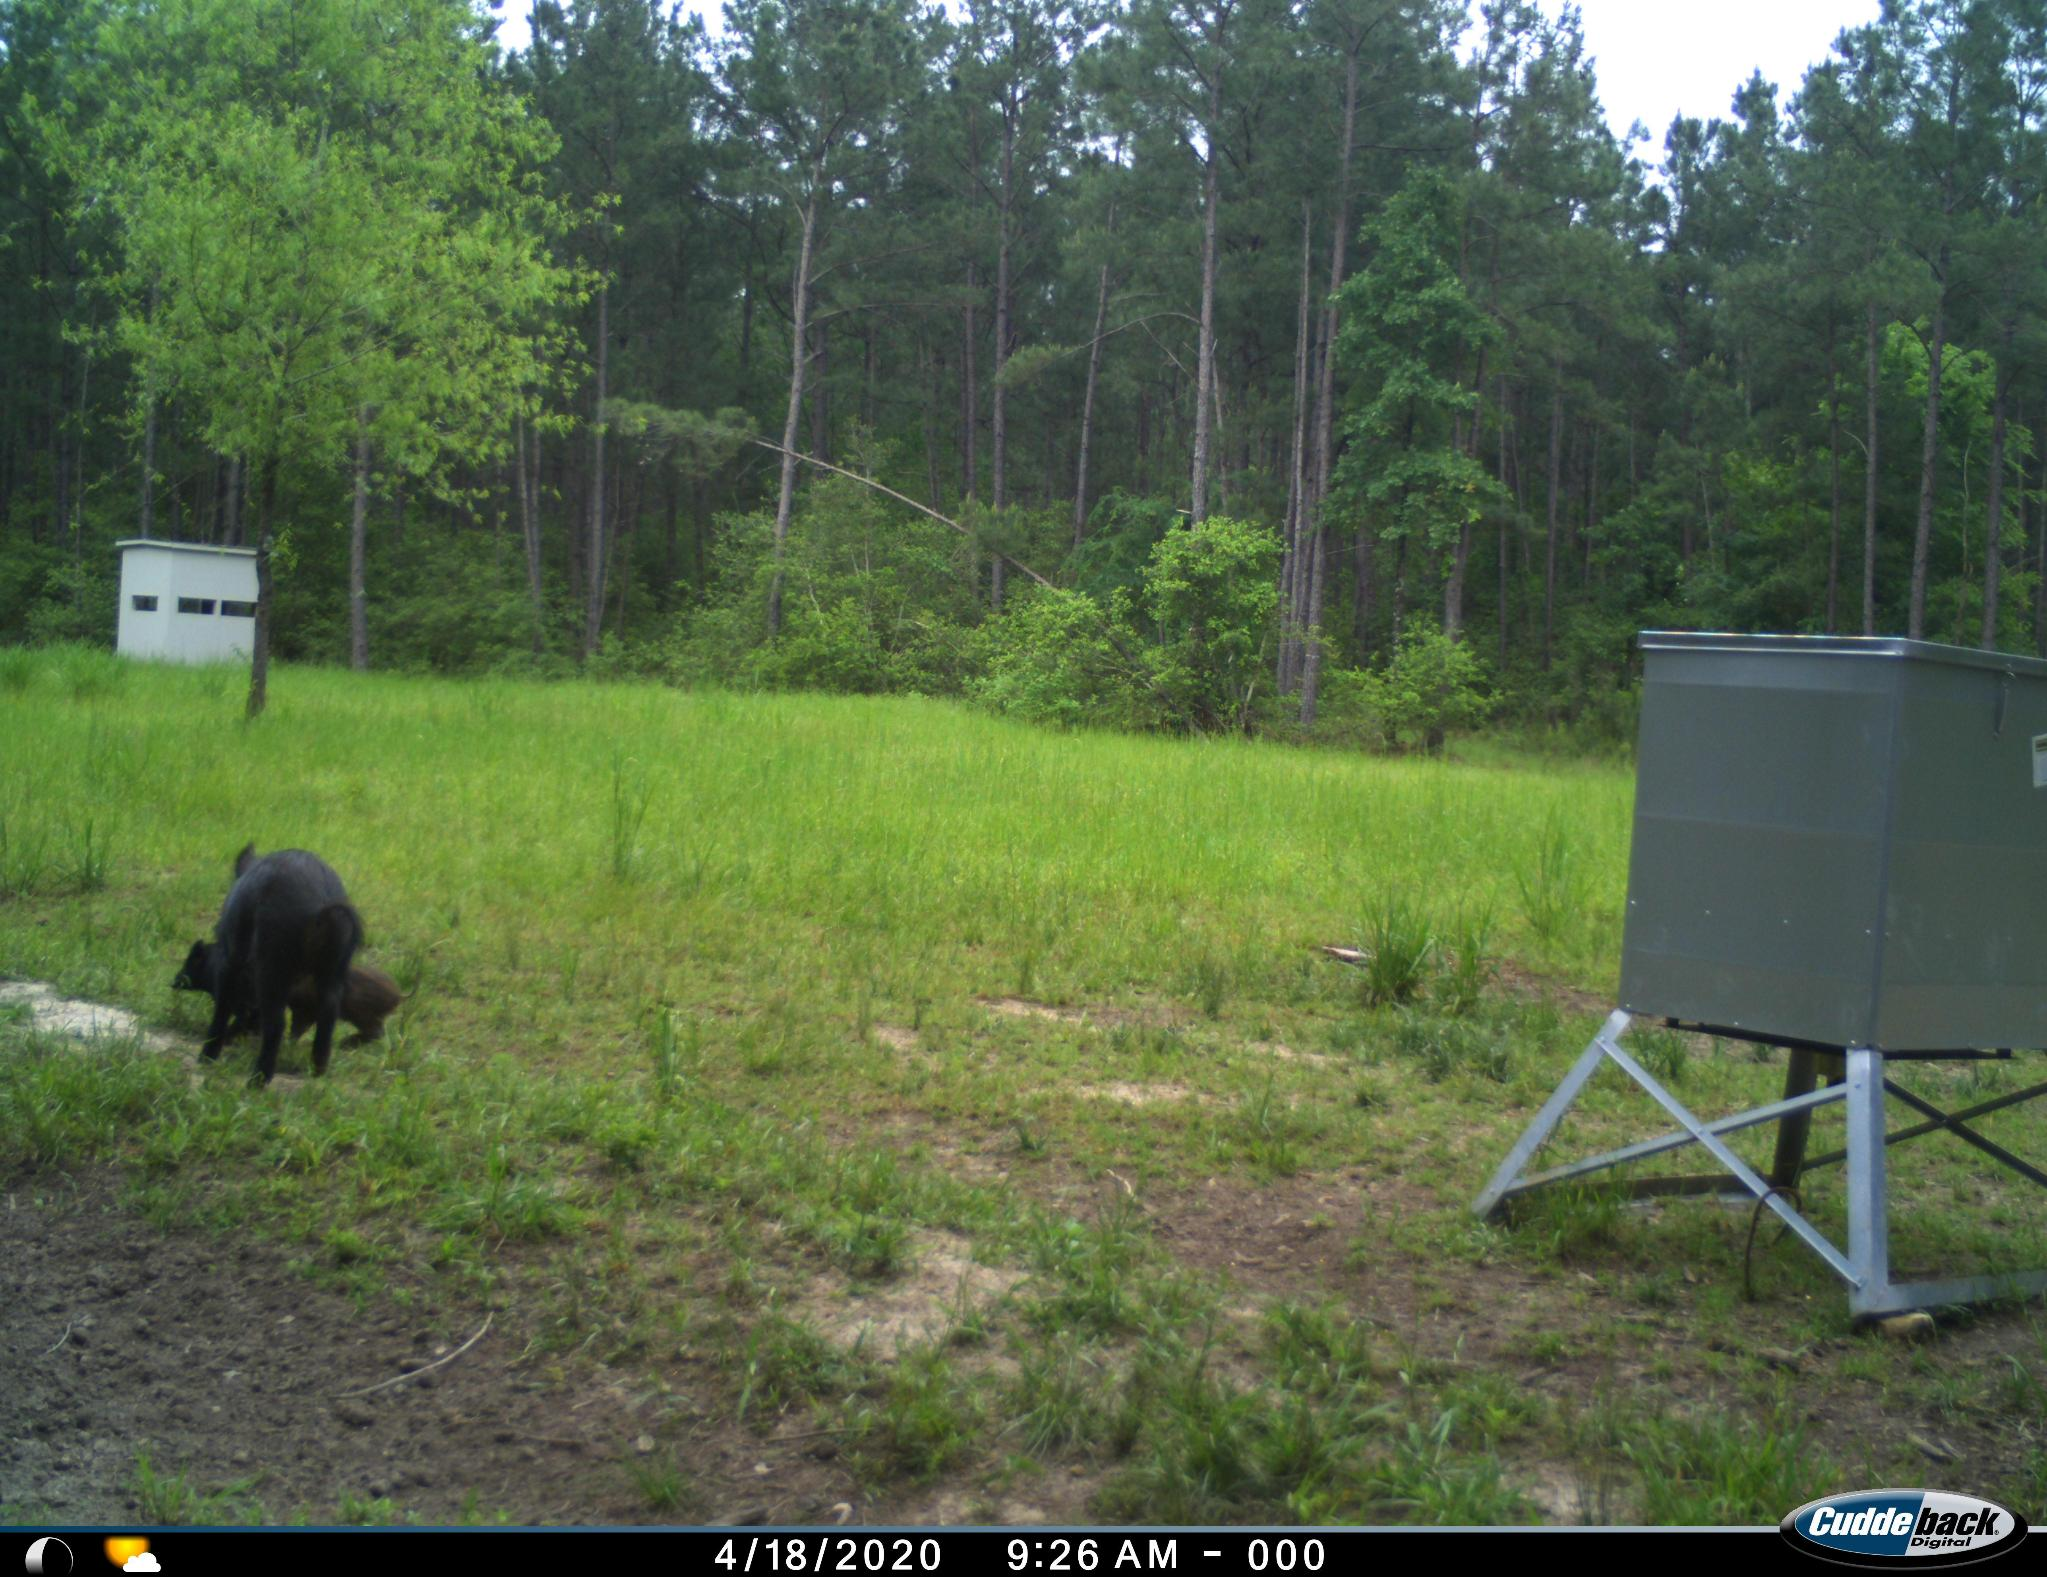Hog: (204, 835, 368, 1093), (166, 939, 227, 1002)
